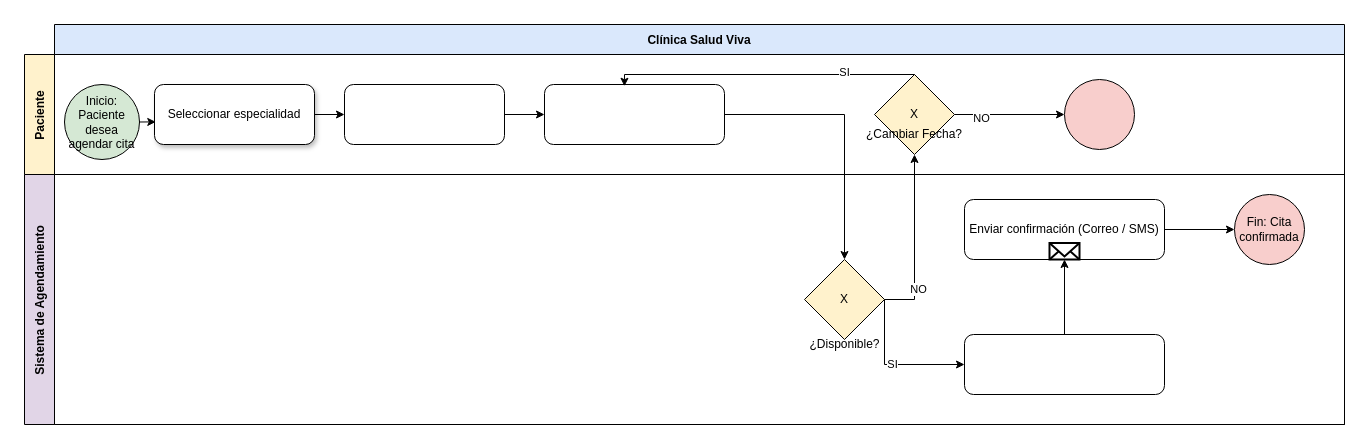
This 1362x442 diagram has some shape labels left out. Here are the shapes that lost their labels. From the top down, the centre of each, then its label:
the point at 424,114: Seleccionar médico
the point at 634,114: Seleccionar fecha y hora
the point at 1099,114: Fin: Cita NO confirmada
the point at 1064,364: Confirmar cita y registrar en BD
